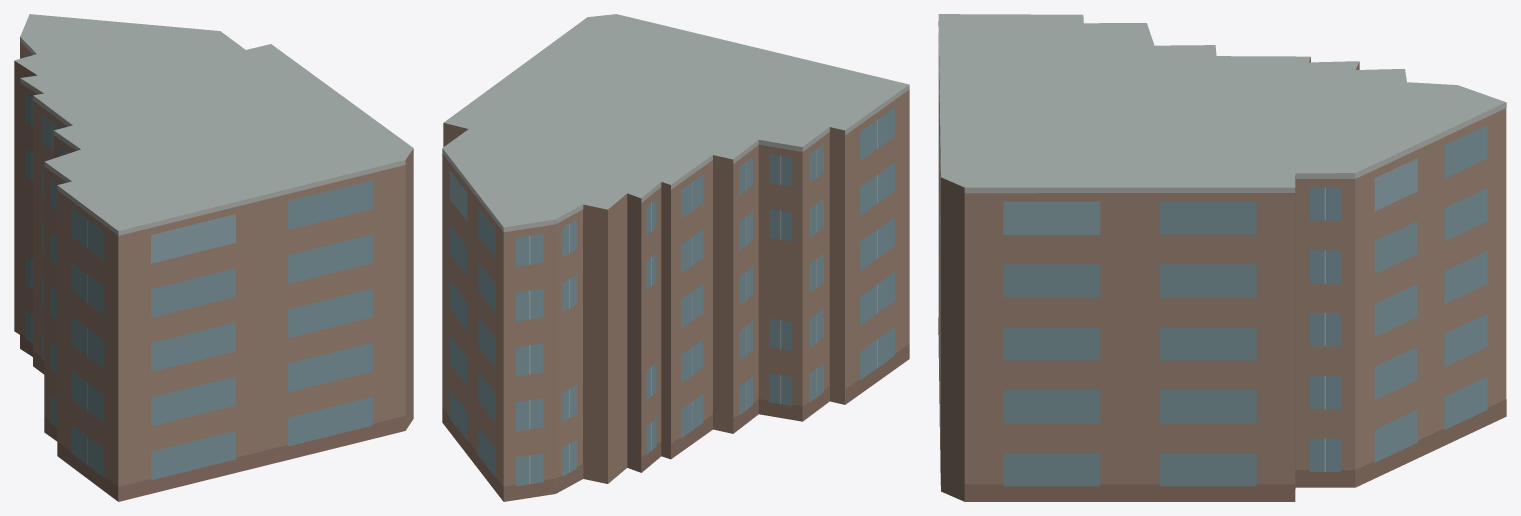
File: survey-upis-32848406.glb
3 renders of one model, left to right at view 1: azimuth 30°, elevation 25°; view 2: azimuth 150°, elevation 25°; view 3: azimuth 270°, elevation 25°, orthographic. The views are drawn at different scales.
Visible parts, largest first — view 1: survey-upis-32848406.tmp; view 2: survey-upis-32848406.tmp; view 3: survey-upis-32848406.tmp.
Boxes of the visible parts, bbox=[...] form: survey-upis-32848406.tmp: bbox=[14, 14, 413, 501]; survey-upis-32848406.tmp: bbox=[442, 14, 909, 501]; survey-upis-32848406.tmp: bbox=[938, 14, 1506, 501].
Bounding box in the file's own units: 16.36 × 13.8 × 22.61.
